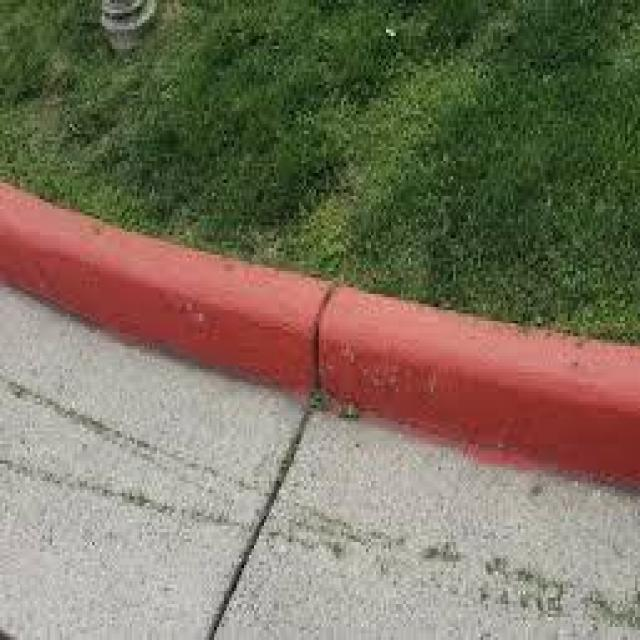curb: (1, 185, 640, 484)
